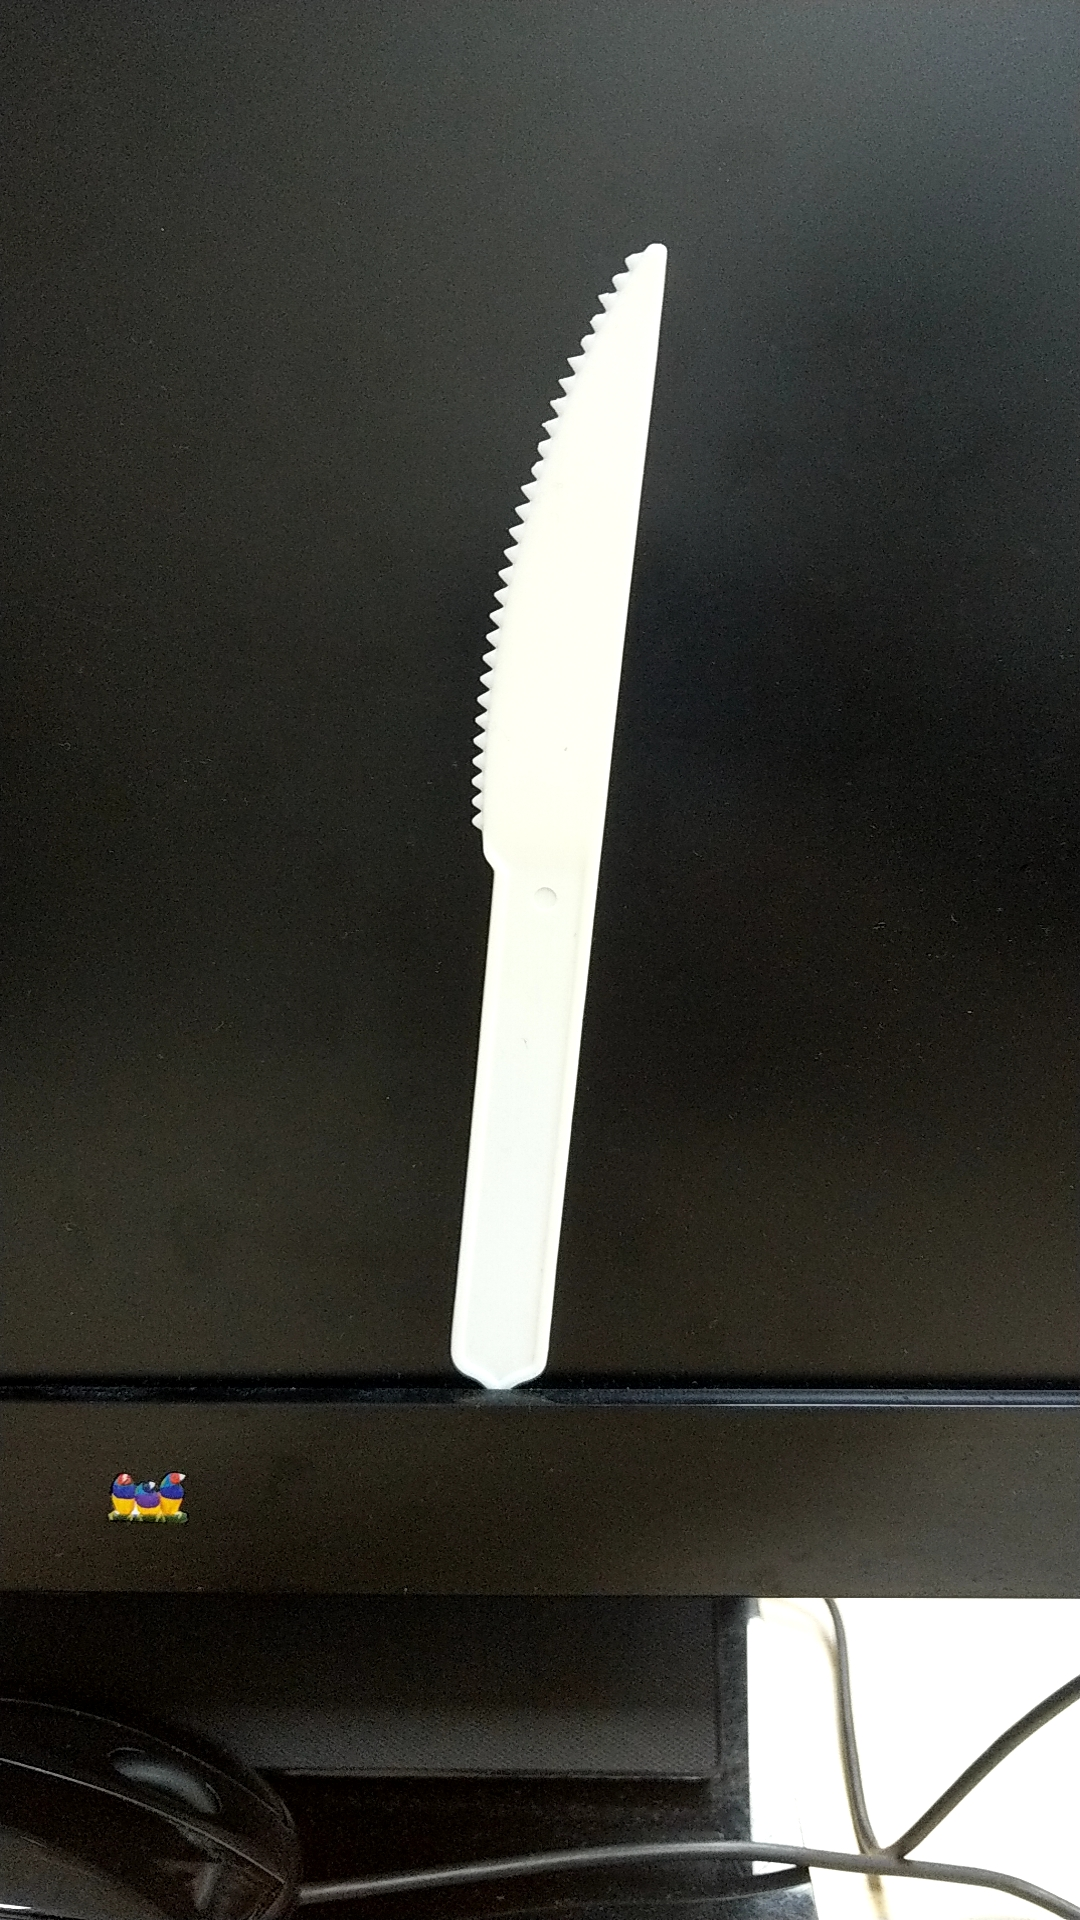knife: (398, 218, 680, 1396)
